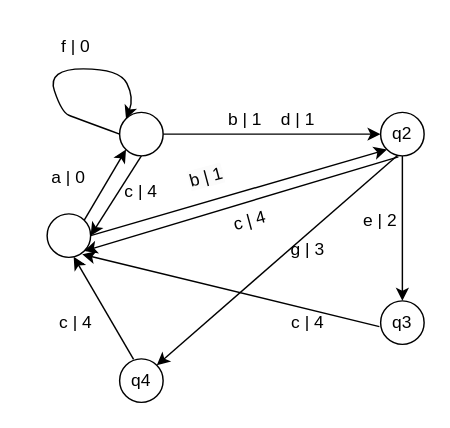
Some shapes in this 450 by 428 pixel diagram are drawn without their labels. Each missing label, with the centre of its shape:
"q0" goes at [68,234].
"q1" goes at [140,133].
